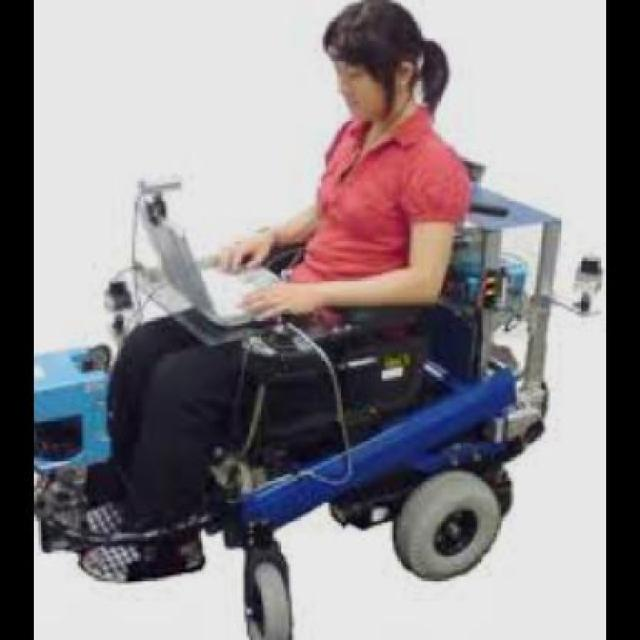wheelchairs: (33, 143, 604, 640)
